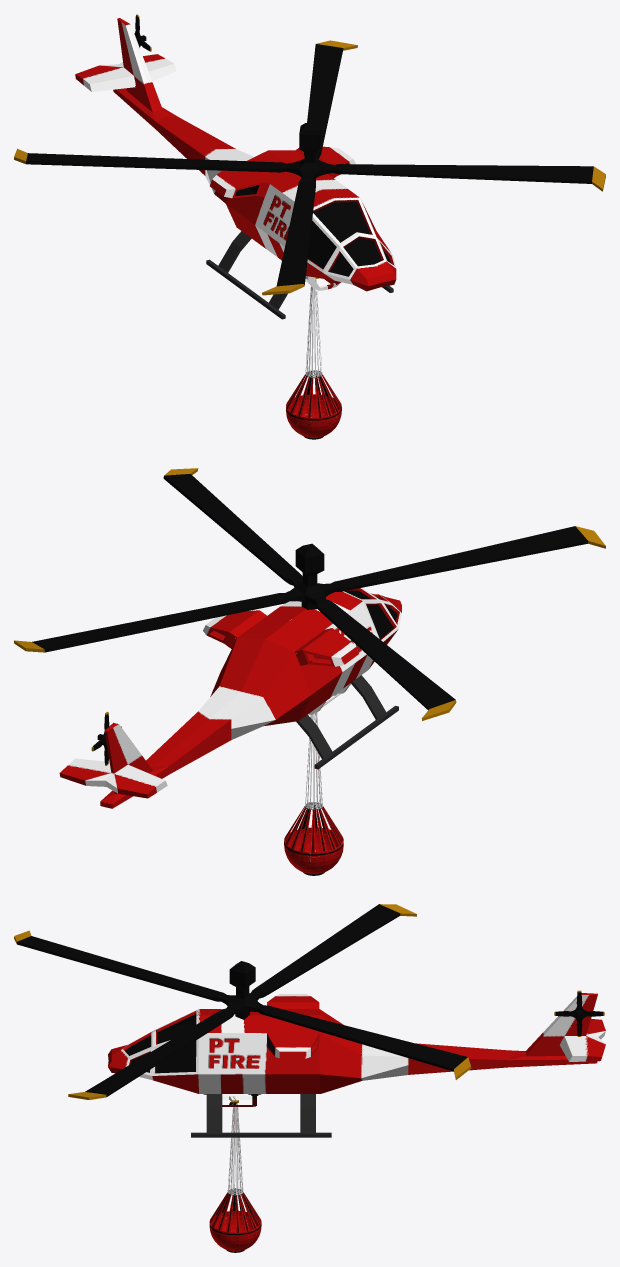
File: Heli.obj
3 views of the same model, one above another, from view 1: azimuth 30°, elevation 25°; view 2: azimuth 150°, elevation 25°; view 3: azimuth 270°, elevation 25° (orthographic). The views are drawn at different scales.
Visible parts, largest first — view 1: HeliBody, MainRotor, HeliWindow, BucketBody, LandingGear, BucketCable; view 2: HeliBody, MainRotor, BucketBody, LandingGear, BucketCable, HeliWindow; view 3: HeliBody, MainRotor, BucketBody, LandingGear, HeliWindow, BucketCable, SideRotor.
Part boxes in pixels (box(x1,y1,x2,y2)): HeliBody: box(75, 18, 396, 291); MainRotor: box(14, 40, 605, 295); HeliWindow: box(308, 202, 390, 276); BucketBody: box(286, 370, 341, 438); LandingGear: box(206, 231, 393, 319); BucketCable: box(305, 279, 322, 377); HeliBody: box(59, 588, 401, 808); MainRotor: box(14, 468, 605, 720); BucketBody: box(284, 801, 343, 874); LandingGear: box(296, 675, 398, 769); BucketCable: box(305, 712, 322, 809); HeliWindow: box(344, 590, 397, 639); HeliBody: box(108, 993, 605, 1100); MainRotor: box(14, 904, 471, 1099); BucketBody: box(209, 1188, 261, 1251); LandingGear: box(191, 1094, 331, 1137); HeliWindow: box(125, 1014, 196, 1073); BucketCable: box(227, 1103, 243, 1194); SideRotor: box(554, 990, 604, 1036).
Size of the model in its own units: 17.57 by 12.16 by 22.74.
